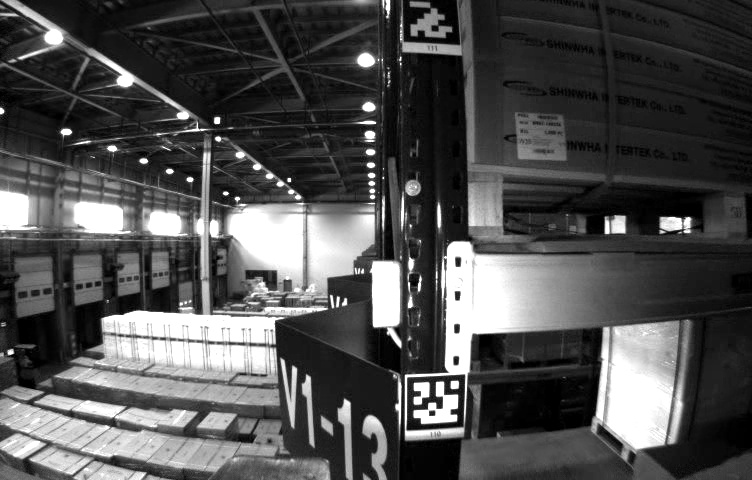True Barcode: (513, 111, 568, 162)
